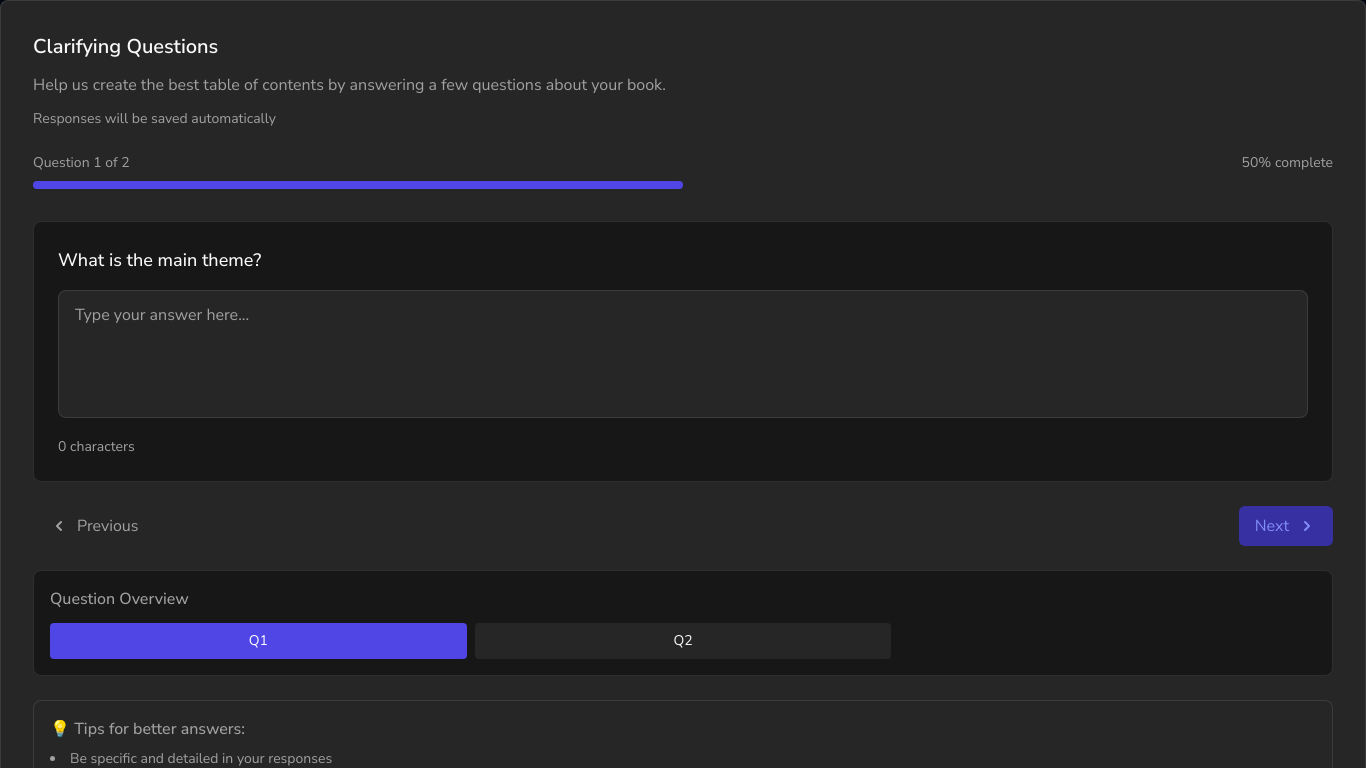
Test: ClarifyingQuestions - navigation › handleNext advances to the second question
This screenshot has width=1366, height=768.
Type "Answer to Q1" into the text box with placeholder "Type your answer here..." at (683, 354), box [58,290,1308,418]
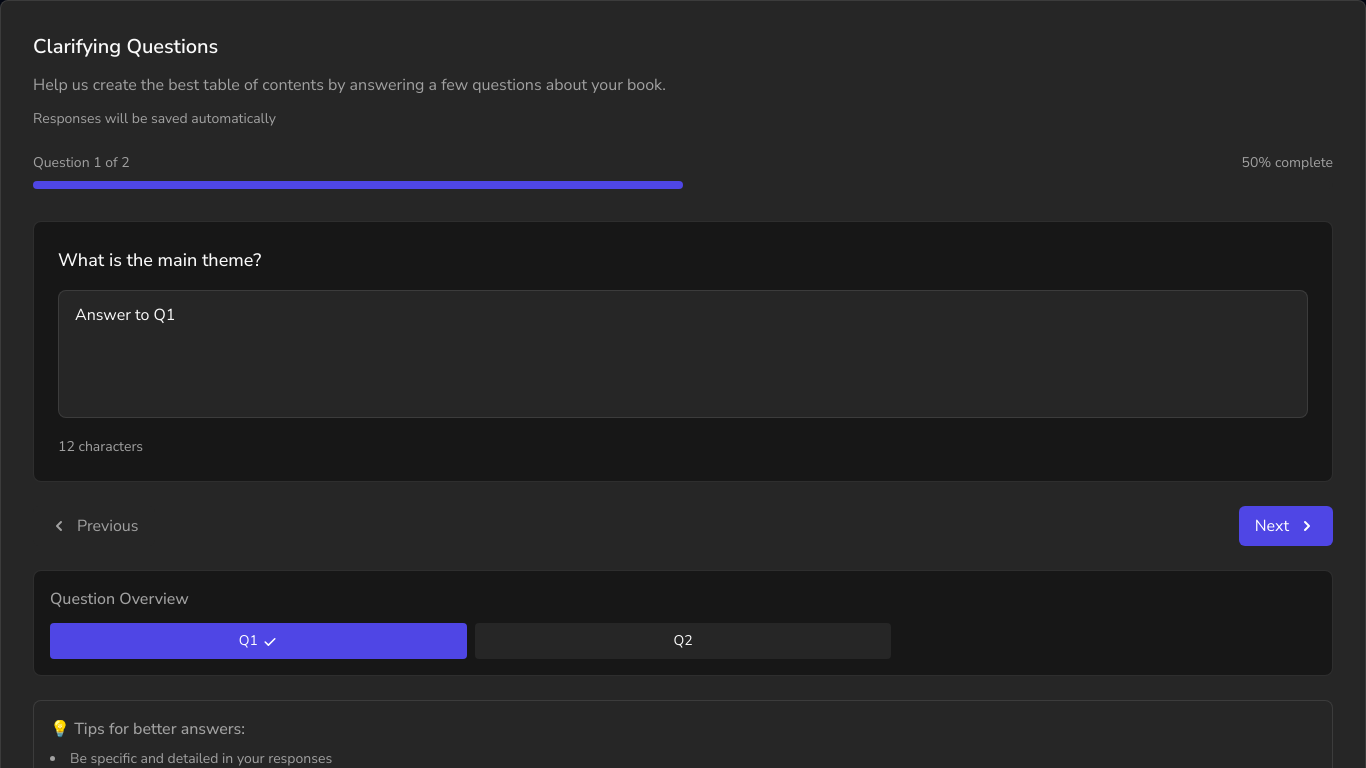
Click the button "Next" at (1286, 526), box [1239,506,1333,546]
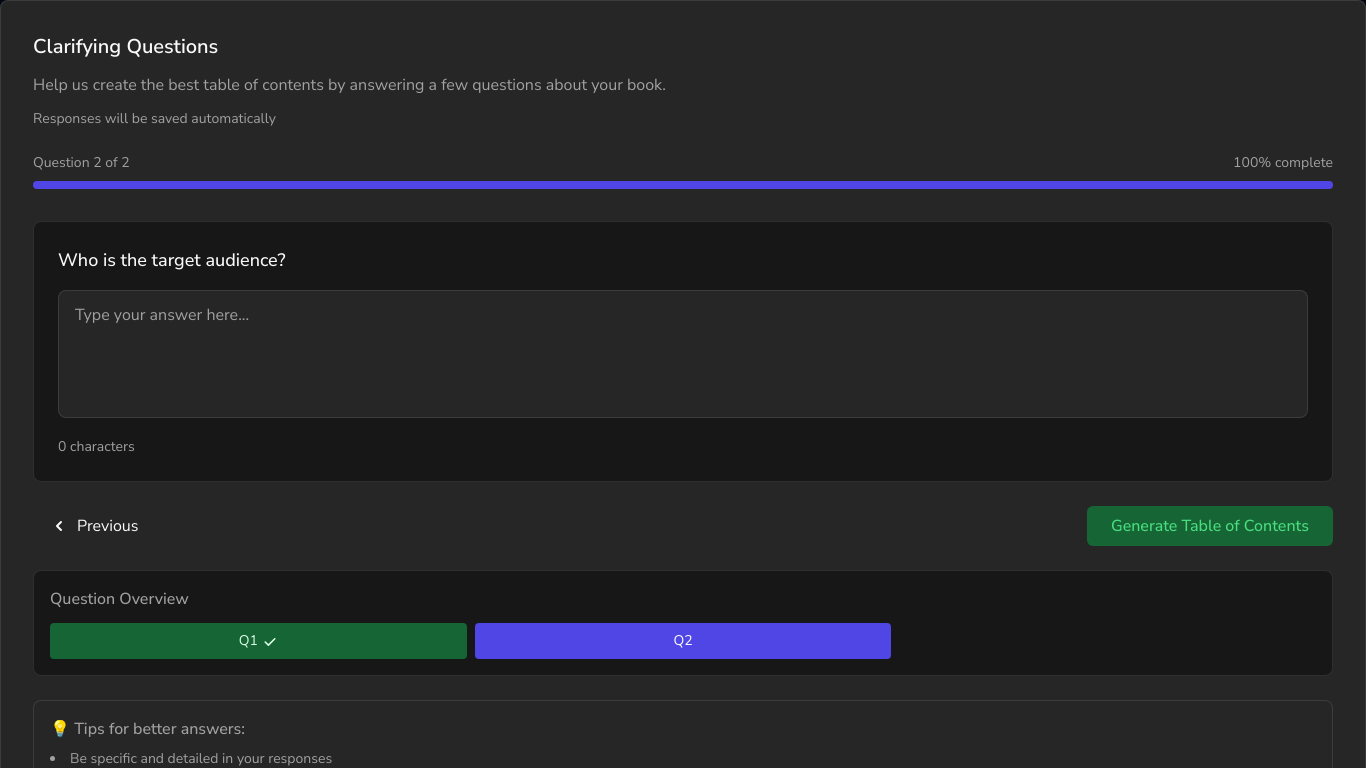
Expected: the heading "Who is the target audience?" is shown, [58,248,286,272]
Expected: the text "Question 2 of 2" is shown, [33,153,130,173]
